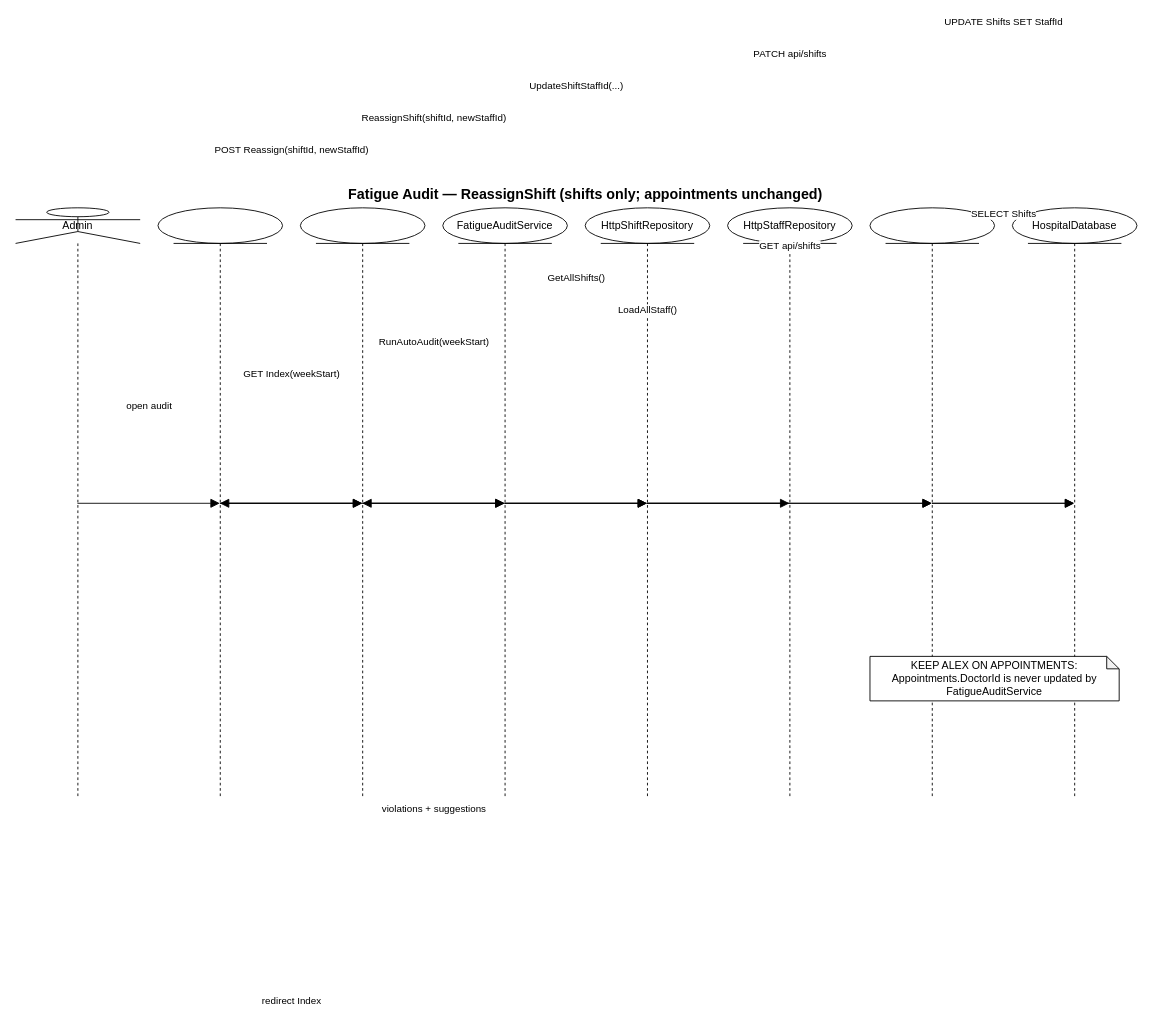
This 1170x1021 diagram has some shape labels left out. The shapes that lost their labels are listed below. From the top down, each one's box as (x1, y1, x2, y2) in pixels, then its label:
(157, 207, 283, 799): FatigueAuditView
(299, 207, 425, 799): FatigueAuditController
(869, 207, 995, 799): WebAPI
